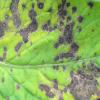Tomato Septoria leaf spot: (0, 2, 99, 99)
